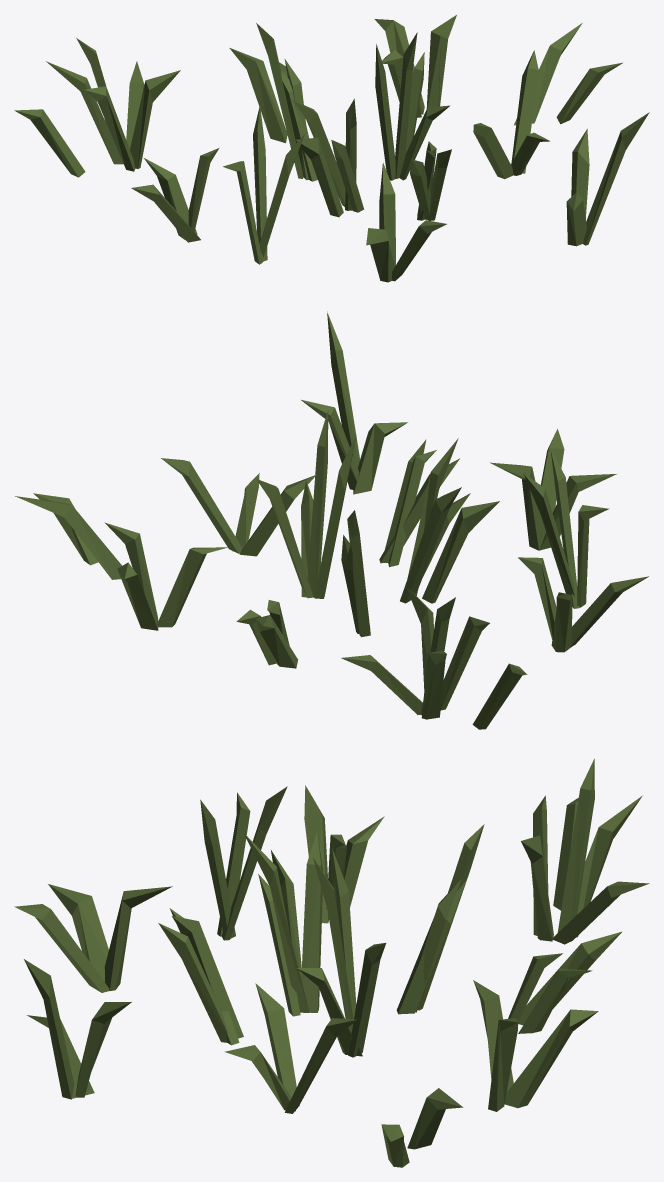
File: SM_Env_Grass_03.glb
The picture shows the model from 3 angles, top to bottom: view 1: azimuth 30°, elevation 25°; view 2: azimuth 150°, elevation 25°; view 3: azimuth 270°, elevation 25°; orthographic projection. The views are drawn at different scales.
Visible parts, largest first — view 1: SM_Env_Grass_03_part00; view 2: SM_Env_Grass_03_part00; view 3: SM_Env_Grass_03_part00.
Part boxes in pixels (box(x1,y1,x2,y2)): SM_Env_Grass_03_part00: box(14, 15, 649, 282); SM_Env_Grass_03_part00: box(15, 311, 648, 729); SM_Env_Grass_03_part00: box(14, 758, 649, 1167).
Bounding box in the file's own units: 4.33 × 1.23 × 3.6.
Materials: 1 (1 with a texture image).
